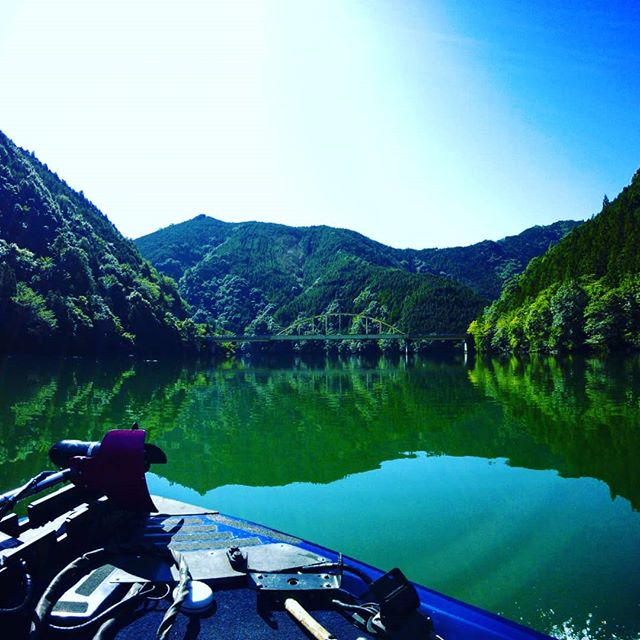bridge: (220, 313, 467, 368)
mountain: (164, 180, 468, 287)
river: (16, 354, 640, 604)
sky: (14, 1, 640, 176)
